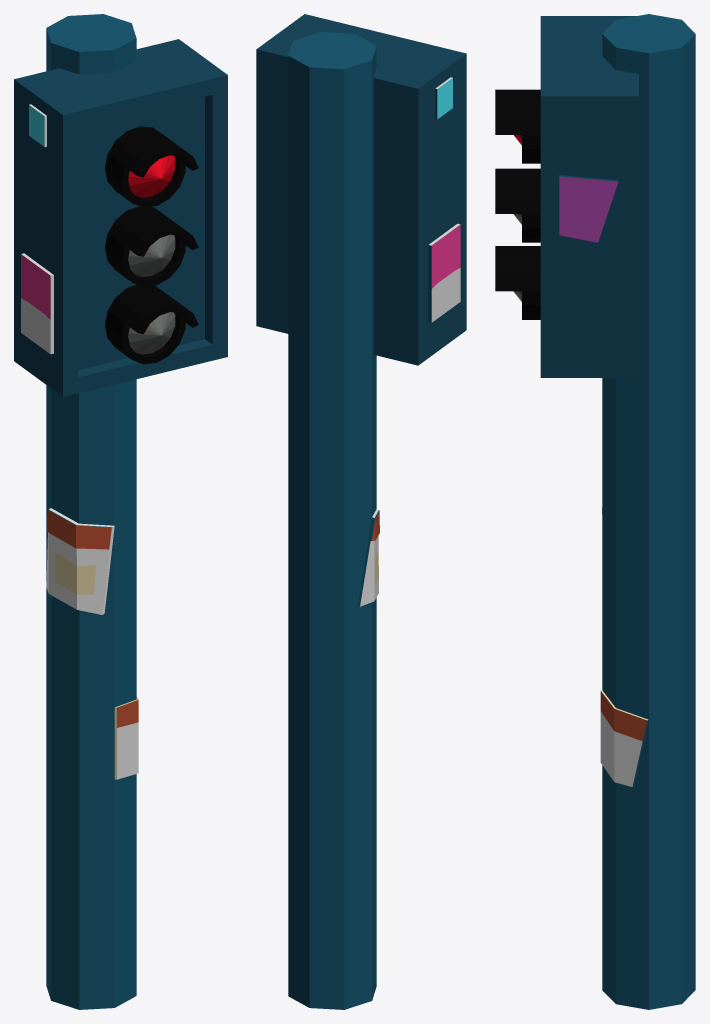
File: semaforoRojo1.fbx
3 renders of one model, left to right at view 1: azimuth 30°, elevation 25°; view 2: azimuth 150°, elevation 25°; view 3: azimuth 270°, elevation 25°, orthographic.
Parts seen in each view (by area): view 1: semaforo; view 2: semaforo; view 3: semaforo.
Boxes of the visible parts, left/top/right/bottom form: semaforo: left=14, top=14, right=227, bottom=1009; semaforo: left=256, top=14, right=466, bottom=1009; semaforo: left=495, top=14, right=695, bottom=1009.
Bounding box in the file's own units: 18.21 × 97.38 × 18.46.
